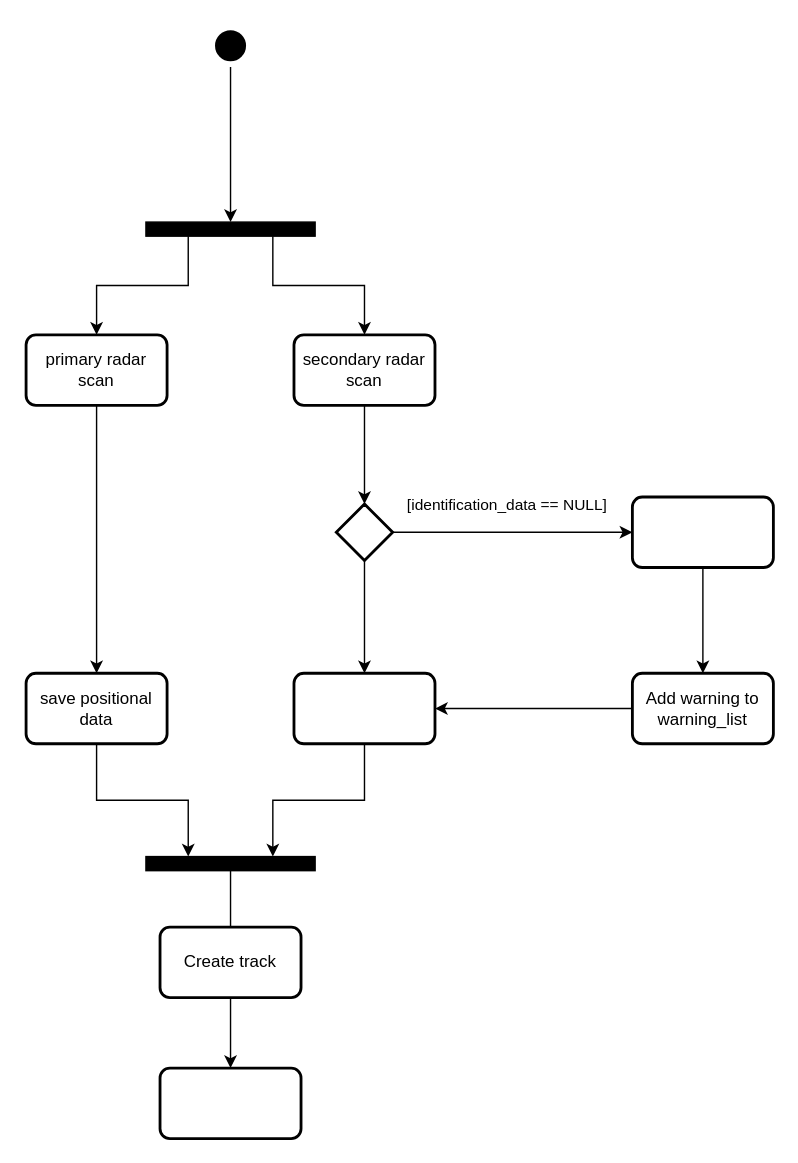
Some shapes in this 798 by 1163 pixel diagram are drawn without their labels. The shapes that lost their labels are listed below. From the top down, each one's centre as x and y in pixels, then its label:
(702,531): create Warning
(364,707): save informational data
(230,1102): Add track to track_buffer
